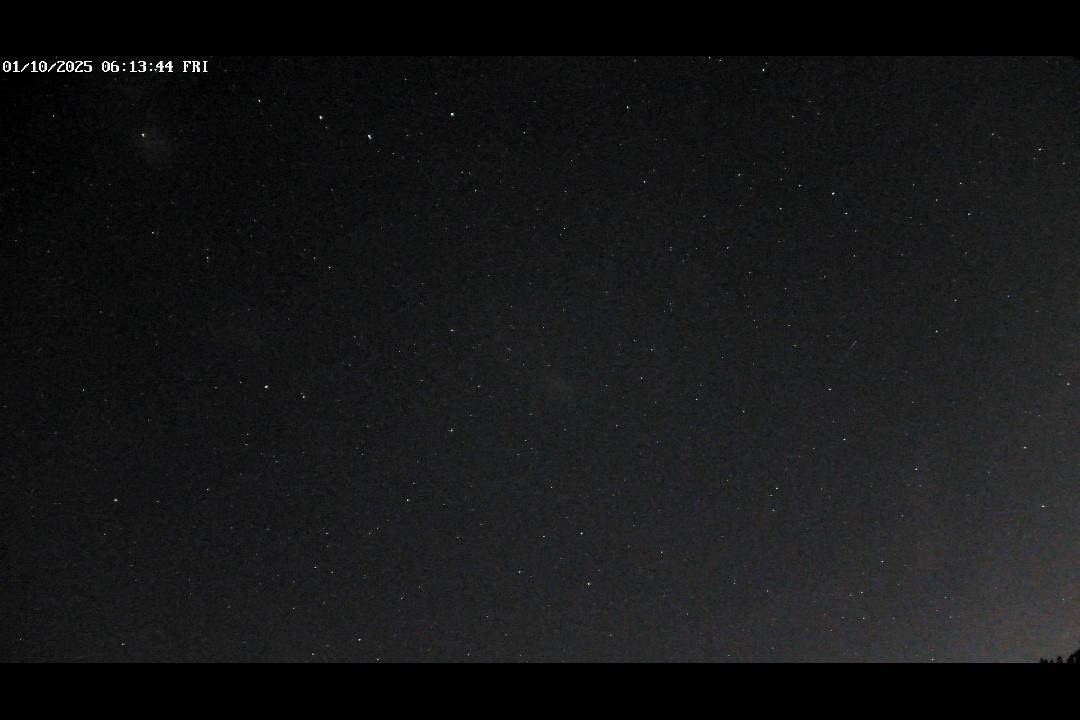Plane: (830, 335, 864, 367)
